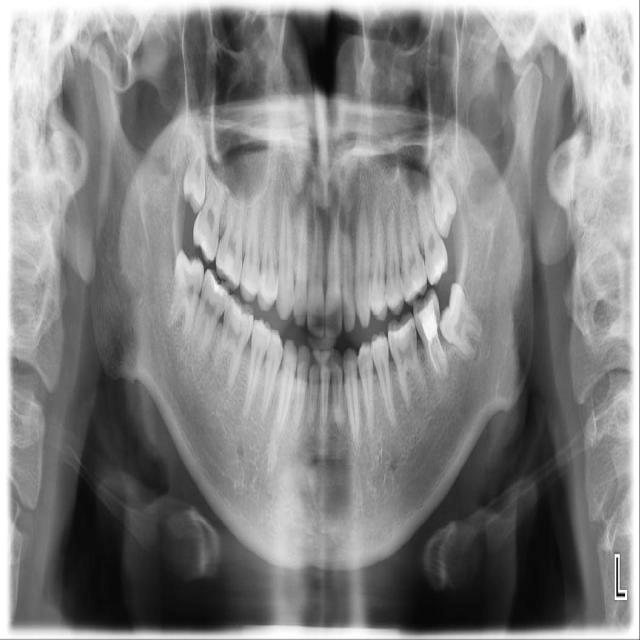Filling: (415, 293, 441, 334)
Root Canal Treatment: (428, 341, 438, 373)
impacted tooth: (164, 248, 203, 338), (440, 285, 485, 355), (425, 160, 455, 239), (183, 116, 205, 210)
